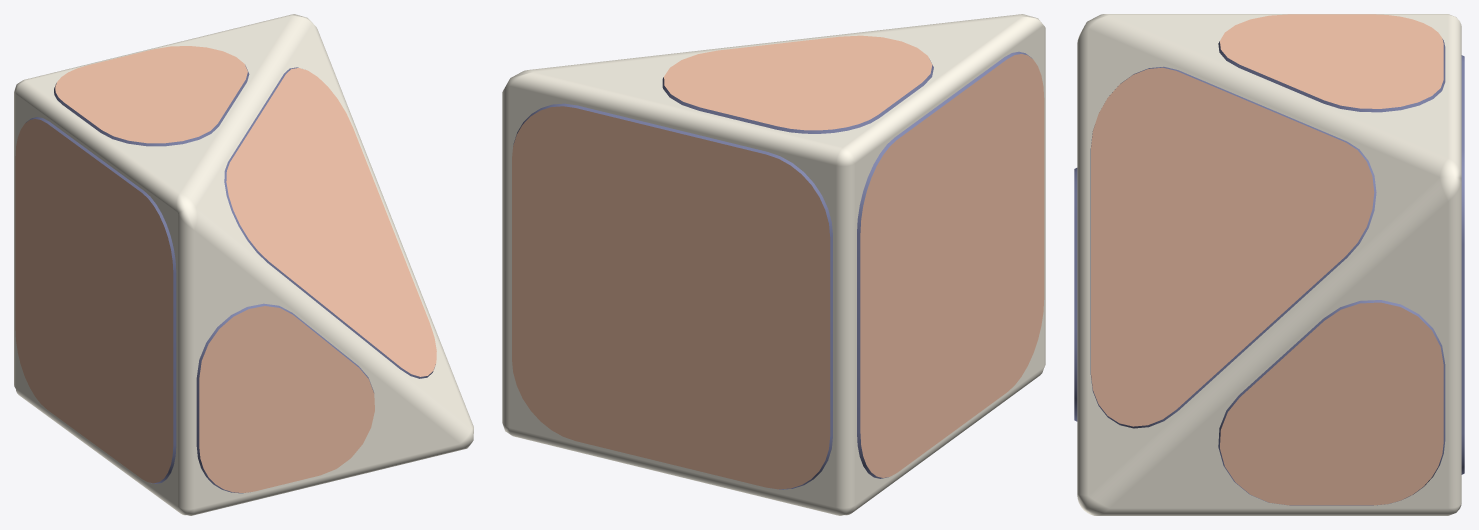
The model's file is R4B_InnerCorner.fbx.
The picture shows the model from 3 angles, left to right: view 1: azimuth 30°, elevation 25°; view 2: azimuth 150°, elevation 25°; view 3: azimuth 270°, elevation 25°; orthographic projection. The views are drawn at different scales.
Parts seen in each view (by area): view 1: R4B_InnerCorner; view 2: R4B_InnerCorner; view 3: R4B_InnerCorner.
Boxes of the visible parts, box(x1,y1,x2,y2) form: R4B_InnerCorner: box(14, 14, 473, 515); R4B_InnerCorner: box(502, 14, 1045, 515); R4B_InnerCorner: box(1074, 14, 1464, 515).
Size of the model in its own units: 0.52 by 0.52 by 0.52.
